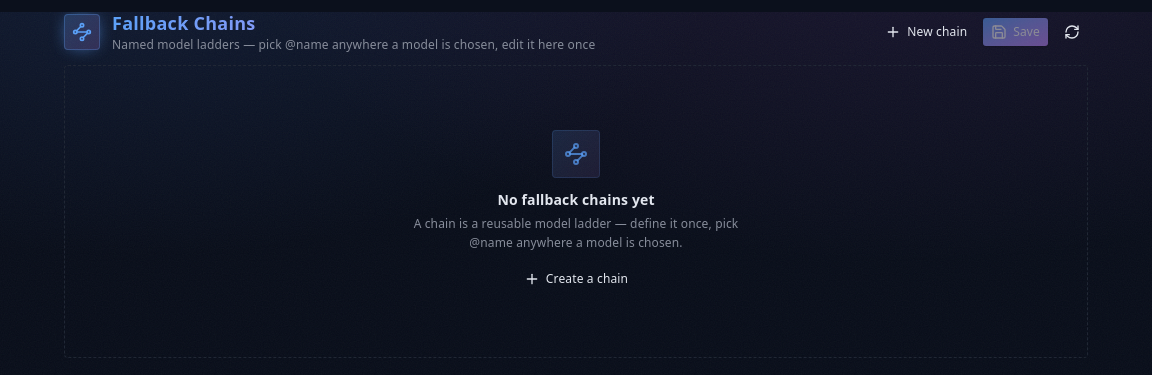
Test: Chains view › offers the empty state, and creates a chain from it
Expected: the text "No fallback chains yet" is shown, [497, 190, 655, 208]
// Selected by title: the control carries no text of its own, only an icon.
Click the button titled "Create a new fallback chain" at (926, 32), box [877, 18, 975, 46]
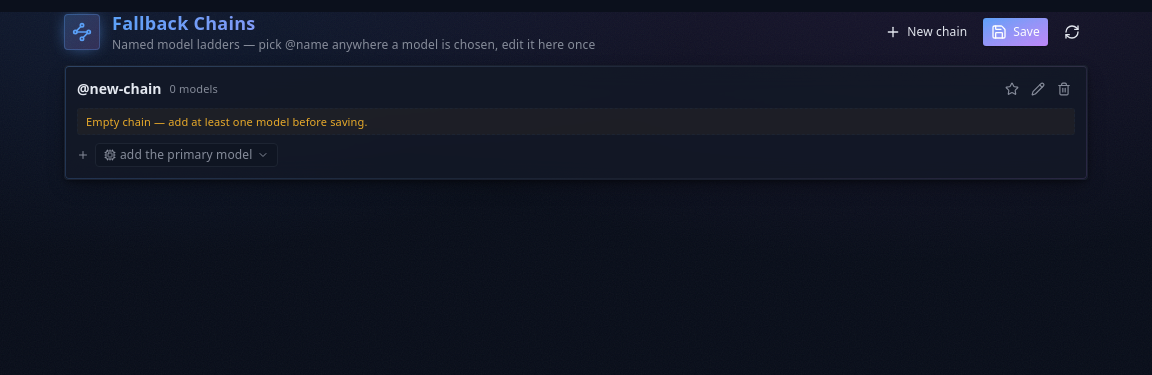
Expected: the text "No fallback chains yet" is gone
